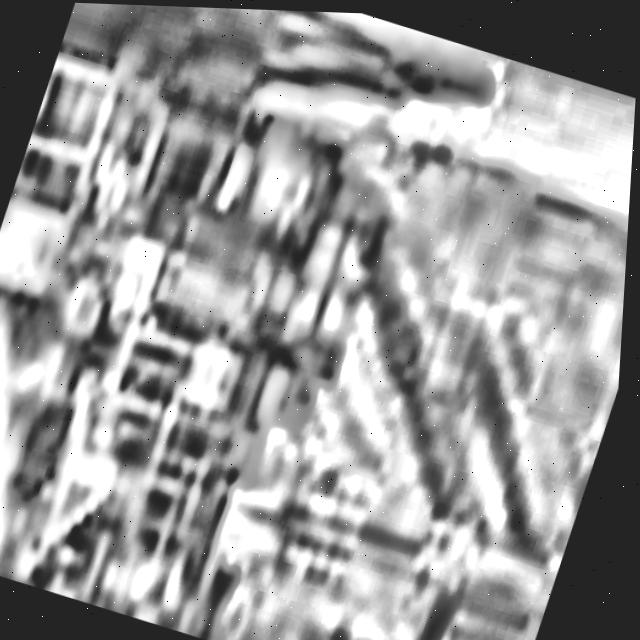dump_truck: (0, 0, 475, 640)
